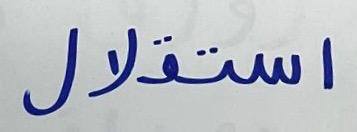character: (21, 20, 82, 119), (85, 23, 138, 102), (242, 41, 307, 93), (187, 33, 240, 93), (140, 32, 184, 93), (314, 27, 341, 100)
